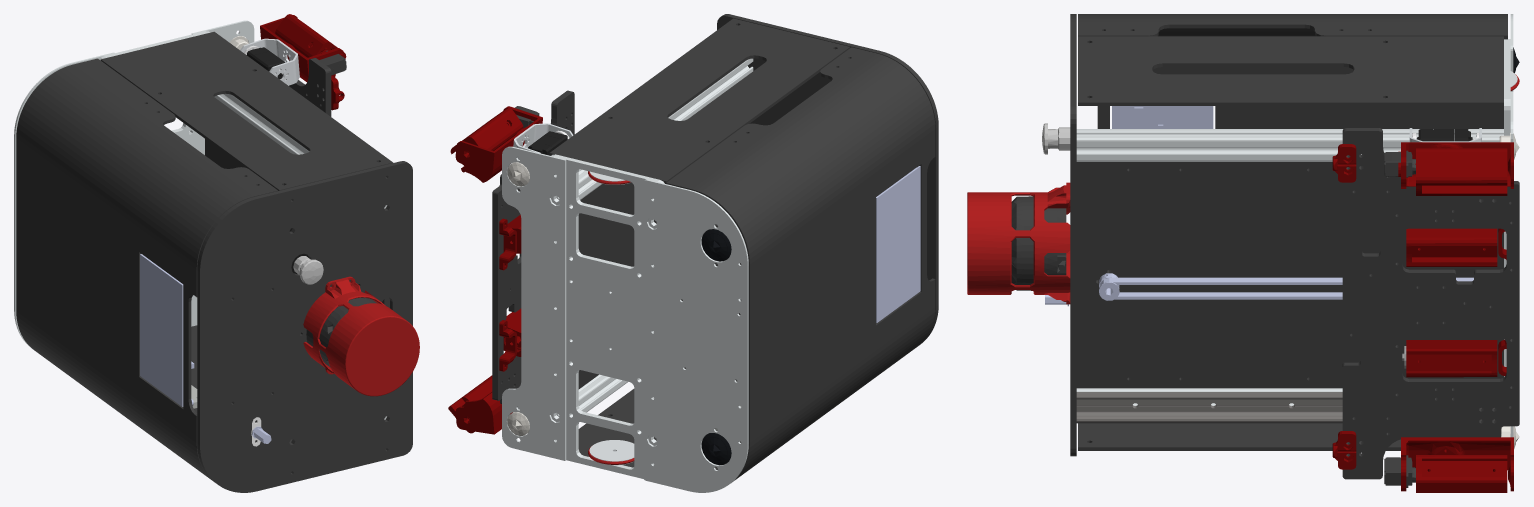
The model's file is robot2025.dae.
3 views of the same model, side by side, from view 1: azimuth 30°, elevation 25°; view 2: azimuth 150°, elevation 25°; view 3: azimuth 270°, elevation 25° (orthographic). The views are drawn at different scales.
Visible parts, largest first — view 1: node3, node2, node11, node6, node4, node37, node29, node14, node36, node13, node16, node60 (+5 smaller); view 2: node3, node16, node11, node13, node0, node4, node29, node2, node9, node60, node14, node12 (+10 smaller); view 3: node9, node29, node11, node3, node14, node8, node6, node12, node37, node10, node33, node34 (+11 smaller).
Boxes of the visible parts, box(x1,y1,x2,y2) form: node3: box(16, 58, 277, 481); node2: box(197, 161, 412, 492); node11: box(100, 31, 393, 190); node6: box(303, 276, 419, 396); node4: box(140, 254, 194, 406); node37: box(275, 14, 346, 57); node29: box(289, 58, 331, 116); node14: box(214, 93, 387, 208); node36: box(240, 38, 299, 85); node13: box(99, 31, 209, 326); node16: box(14, 52, 114, 348); node60: box(260, 15, 344, 81); node3: box(666, 47, 935, 481); node16: box(643, 179, 748, 492); node11: box(549, 18, 850, 183); node13: box(550, 154, 664, 478); node0: box(502, 146, 566, 460); node4: box(876, 166, 920, 322); node29: box(492, 90, 574, 403); node2: box(717, 14, 938, 345); node9: box(572, 182, 741, 389); node60: box(455, 106, 542, 182); node14: box(556, 58, 753, 199); node12: box(578, 367, 737, 467); node9: box(1076, 162, 1503, 388); node29: box(1342, 128, 1519, 479); node11: box(1078, 36, 1503, 105); node3: box(1078, 14, 1507, 280); node14: box(1076, 129, 1503, 161); node8: box(1076, 392, 1494, 423); node6: box(967, 182, 1070, 304); node12: box(1078, 423, 1400, 450); node37: box(1416, 148, 1507, 195); node10: box(1100, 277, 1473, 299); node33: box(1406, 228, 1497, 266); node34: box(1416, 455, 1507, 492).
Bounding box in the file's own units: 310 × 424 × 299.
